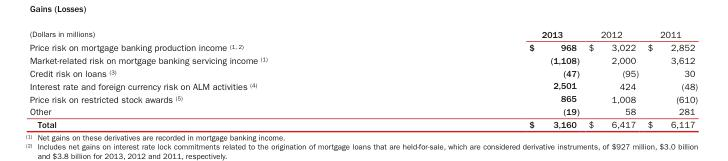table: (28, 28, 697, 129)
table column: (28, 28, 397, 129), (397, 28, 583, 129), (583, 28, 642, 129), (642, 28, 697, 129)
table column header: (28, 28, 697, 40)
table row: (28, 40, 697, 53), (28, 53, 697, 66), (28, 66, 697, 79), (28, 91, 697, 104), (28, 104, 697, 117), (28, 28, 697, 40), (28, 79, 697, 91), (28, 117, 697, 129)
